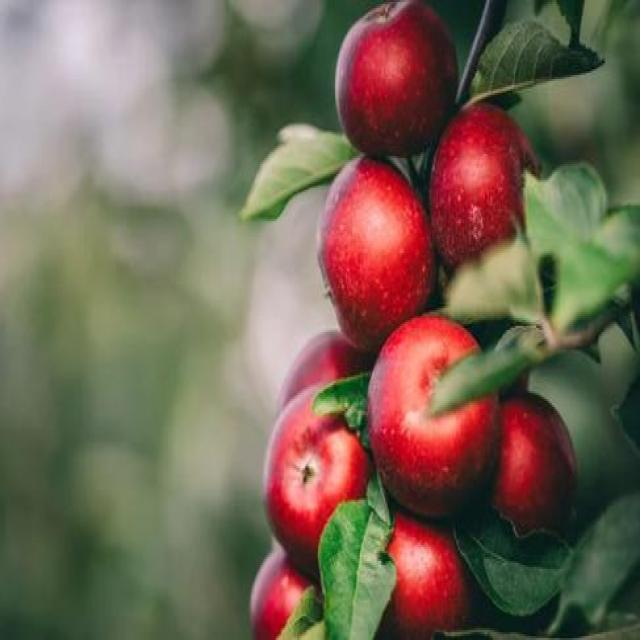fruit: (366, 311, 500, 517), (318, 157, 436, 352), (265, 385, 373, 572), (335, 2, 456, 162), (428, 103, 538, 276), (372, 512, 480, 639), (487, 392, 578, 538), (278, 328, 376, 410), (250, 550, 320, 638)
